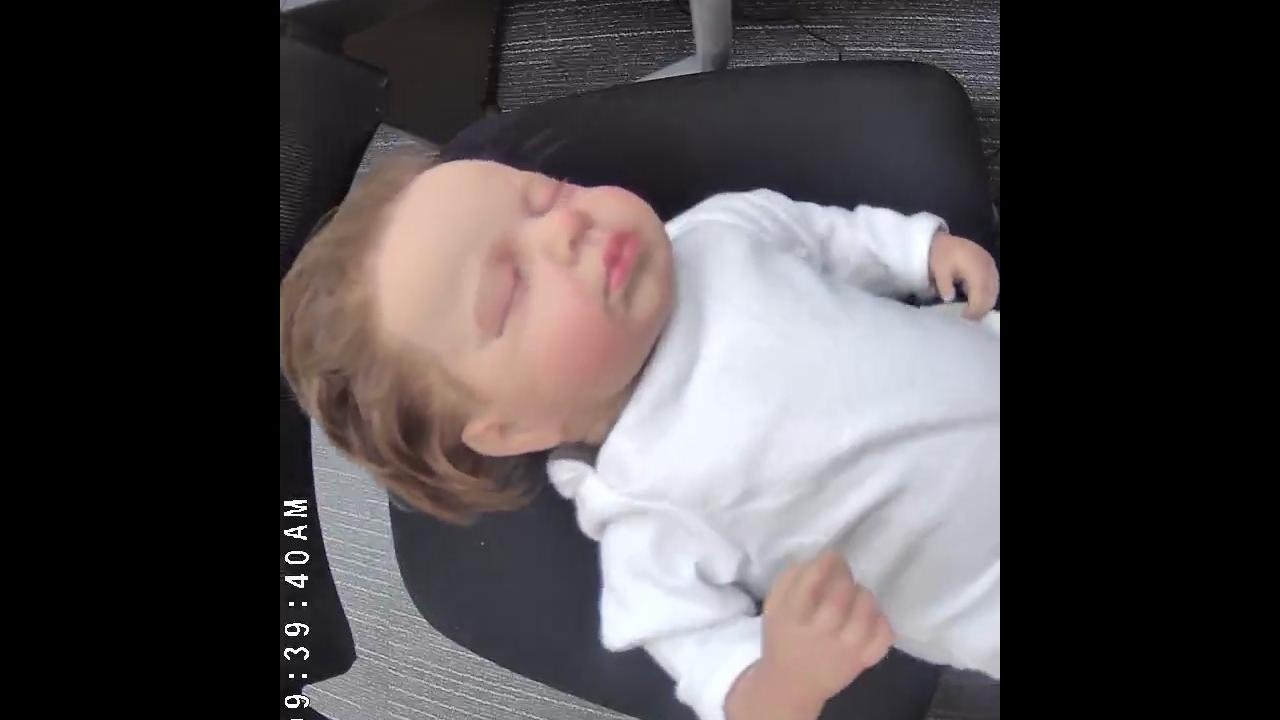hand: (760, 543, 876, 644), (928, 230, 996, 320)
